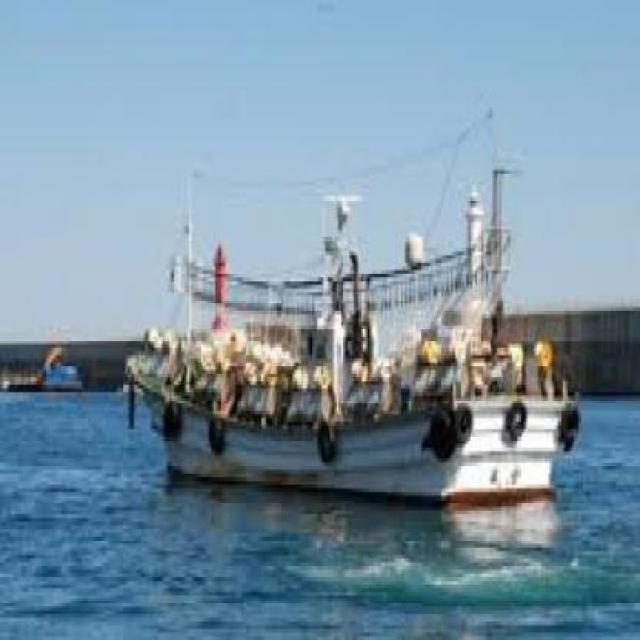fish-b: (117, 134, 588, 519)
